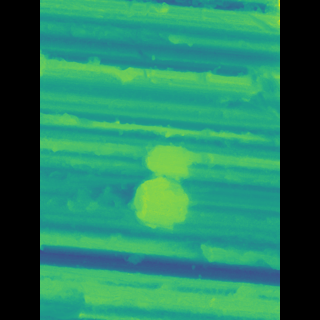Loch: (138, 127, 204, 230), (189, 238, 250, 265)
